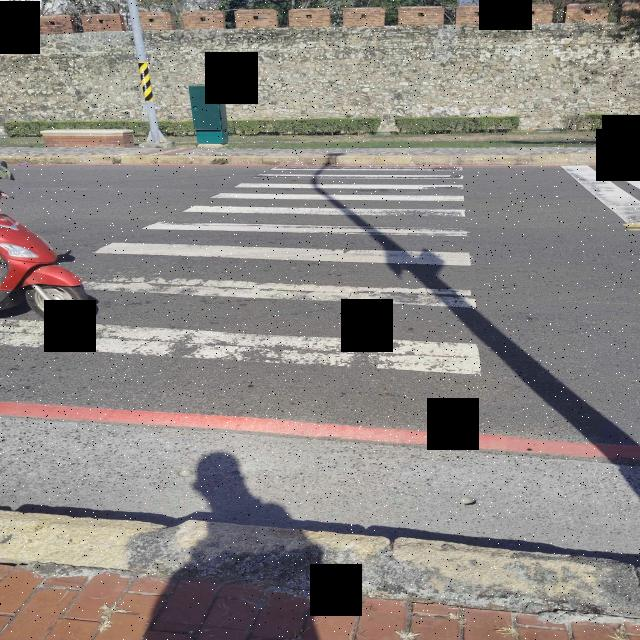zebra_crossing: (0, 144, 8, 485)
